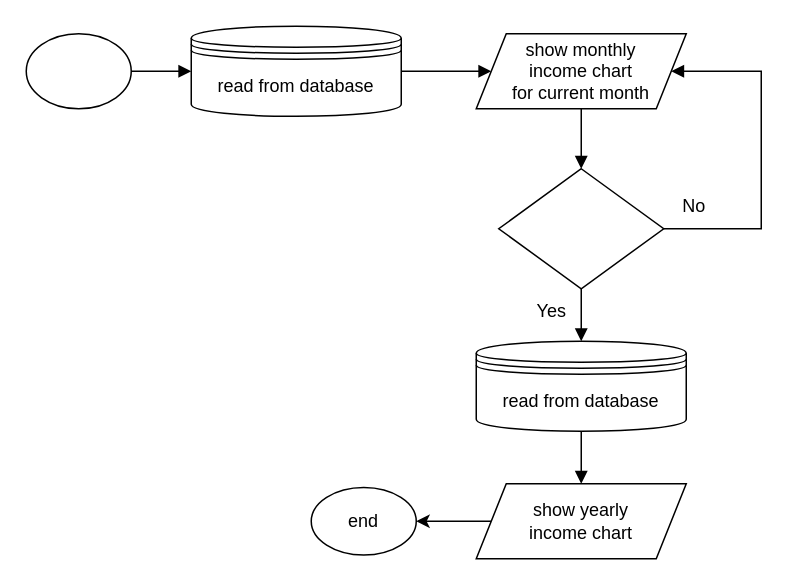
This 800x585 diagram has some shape labels left out. The shapes that lost their labels are listed below. From the top down, each one's centre as x and y in pixels, then its label:
At pixel 78 70: "start".
At pixel 580 228: "select year?".
